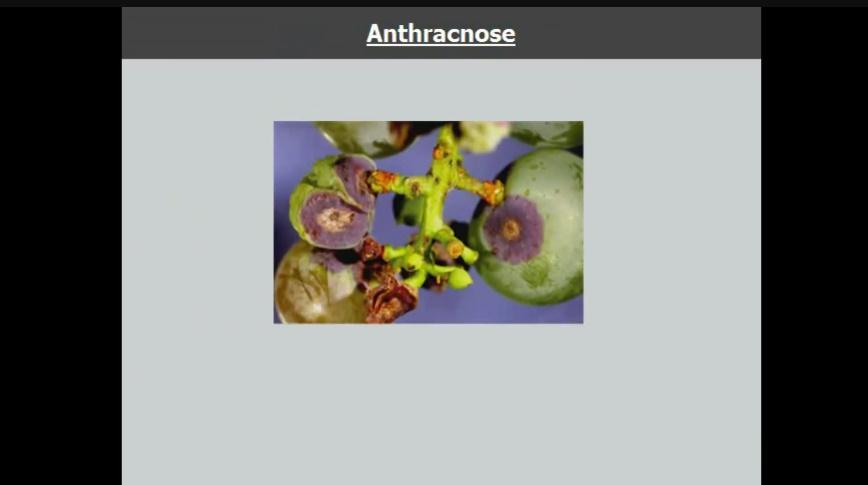Anthracnose: (289, 151, 386, 252), (478, 196, 549, 266)
